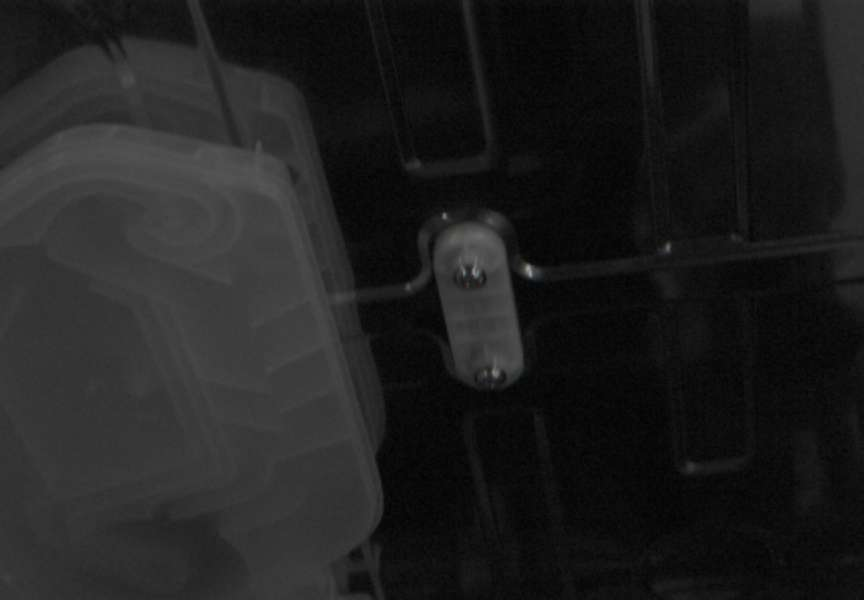screw: (453, 262, 486, 290), (474, 366, 507, 390)
